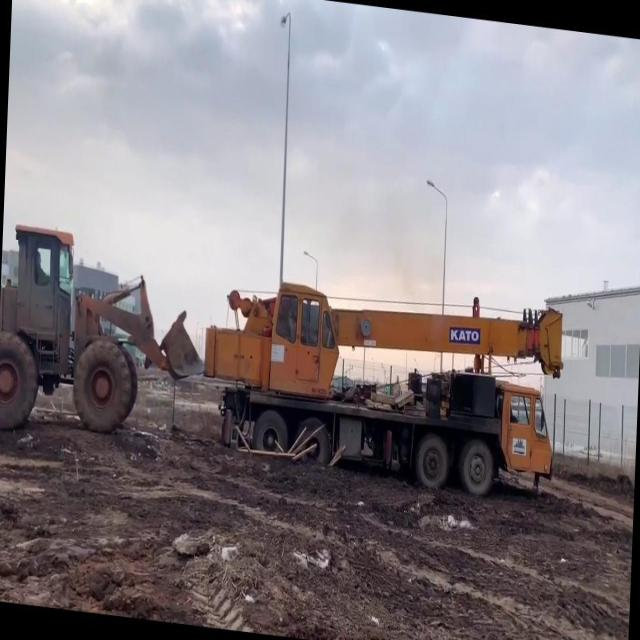crane: (197, 265, 565, 507)
